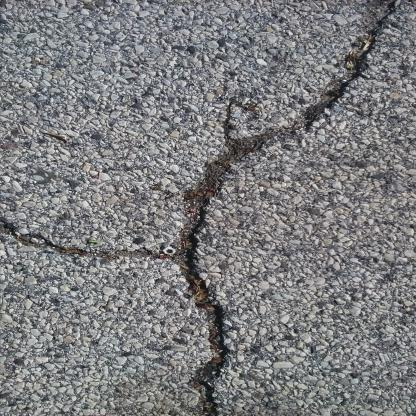Cracks: (167, 0, 403, 415), (0, 219, 196, 265)
